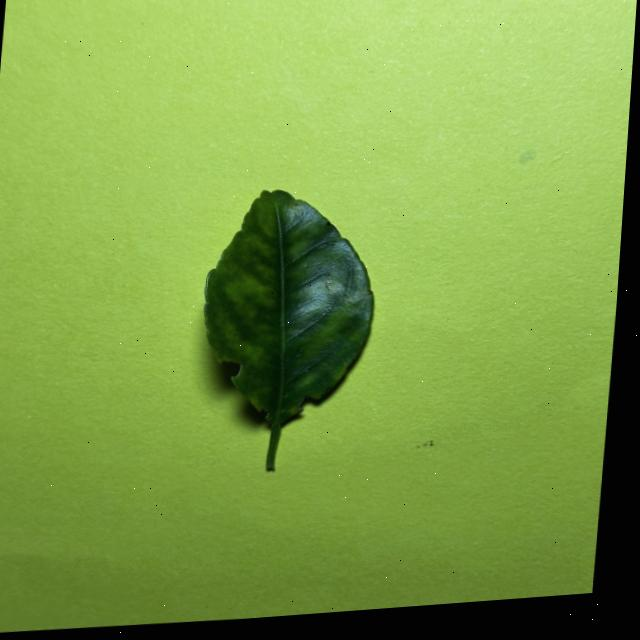greening: (204, 190, 373, 469)
